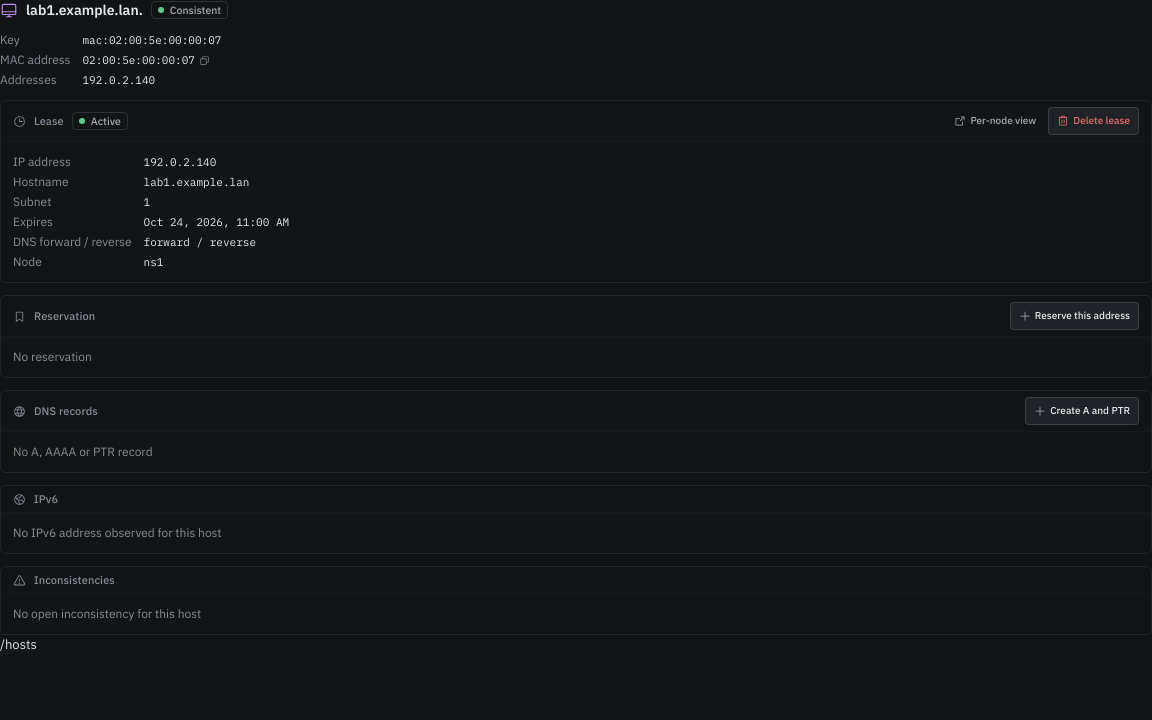
it: HostCard › creates the missing A and PTR records in the zone that holds the name
Expected: the text with test id "host-status" reads "Consistent", x1=170 y1=3 x2=221 y2=17
Click the button with test id "host-create-records".
click(1082, 411)  # box x1=1025 y1=397 x2=1139 y2=425
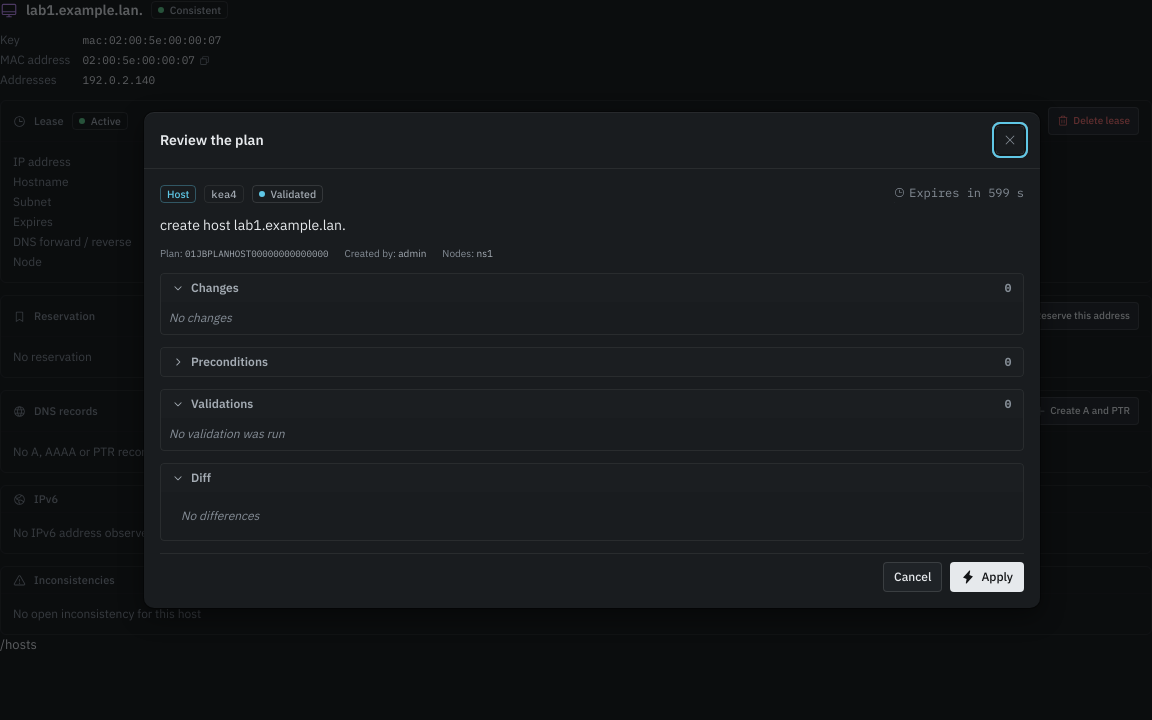
Now the text with test id "plan-summary" reads "create host lab1.example.lan.", box x1=160 y1=216 x2=346 y2=234
